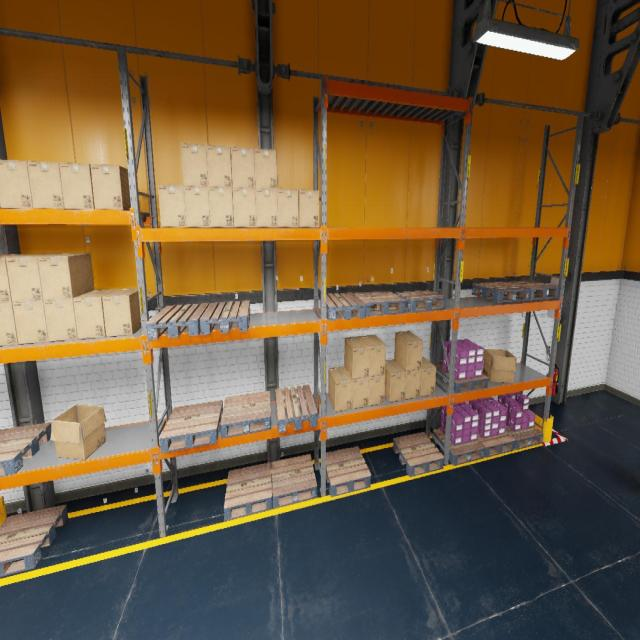box: (50, 404, 106, 460), (6, 253, 63, 302), (37, 253, 94, 300), (73, 289, 119, 339), (102, 288, 141, 337), (90, 164, 131, 210), (27, 160, 64, 208), (0, 254, 36, 302), (59, 162, 95, 210), (0, 159, 33, 208), (12, 300, 48, 344), (43, 299, 78, 341), (158, 184, 186, 227), (181, 143, 208, 187), (394, 331, 423, 371), (483, 349, 516, 383), (344, 336, 370, 379), (394, 359, 421, 400), (328, 366, 352, 412), (206, 145, 232, 187), (360, 335, 386, 376), (184, 186, 210, 227), (208, 187, 234, 227), (345, 367, 369, 409), (231, 146, 255, 188), (254, 148, 277, 189), (232, 188, 256, 227), (385, 359, 406, 402), (255, 188, 278, 227), (277, 188, 299, 227), (0, 302, 18, 346), (299, 190, 319, 227), (420, 356, 436, 397), (368, 374, 385, 406), (0, 205, 1, 208)
pallets: (0, 504, 68, 577), (160, 400, 222, 453), (224, 462, 272, 521), (0, 421, 51, 476), (271, 454, 317, 508), (220, 391, 271, 438), (326, 446, 371, 497), (146, 303, 209, 339), (393, 432, 444, 476), (276, 385, 318, 433), (433, 429, 485, 465), (200, 300, 250, 335), (436, 364, 488, 393), (353, 291, 406, 316), (320, 292, 366, 320), (472, 282, 530, 302), (502, 280, 559, 300), (396, 290, 447, 312), (478, 431, 515, 457), (506, 425, 544, 449)
